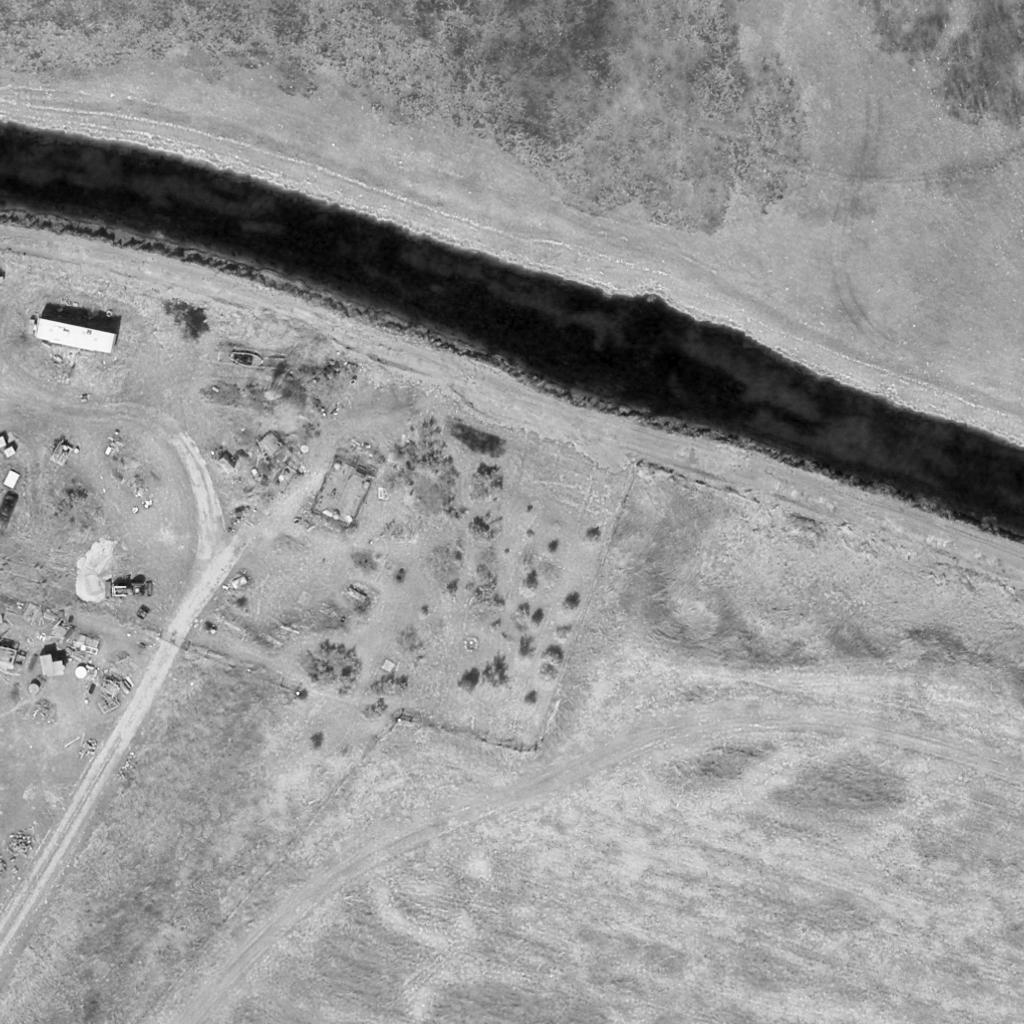vehicle: (27, 317, 121, 355), (105, 580, 153, 600)
